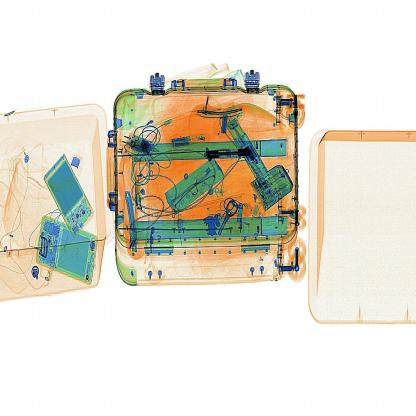knife: (201, 143, 256, 176)
